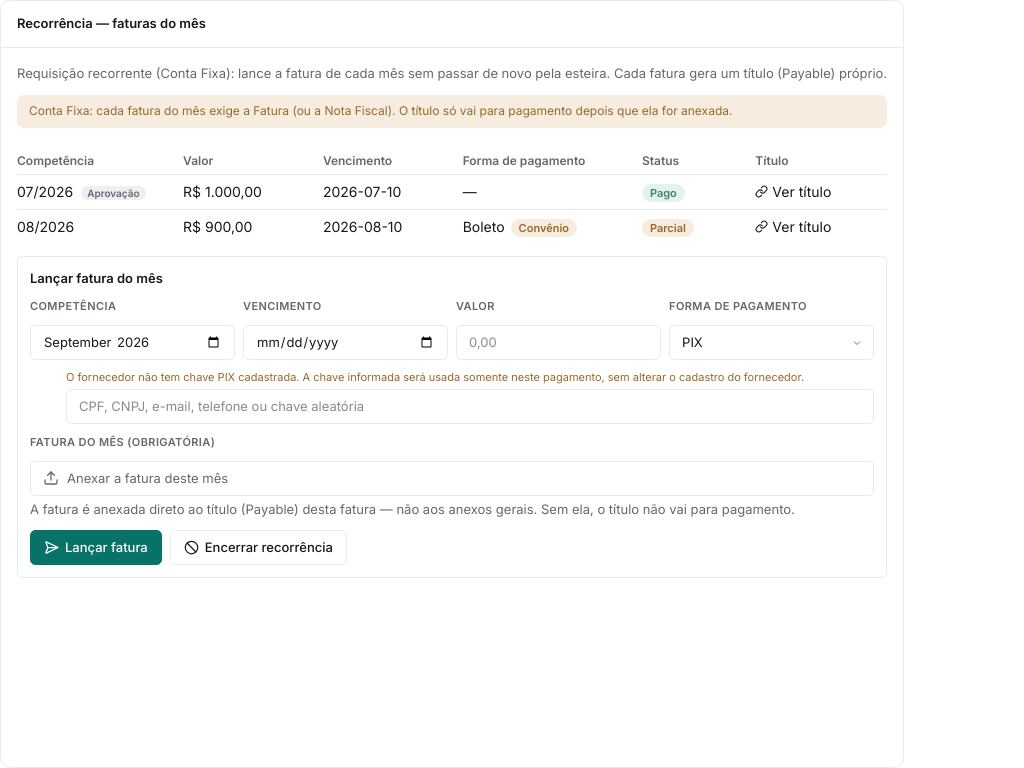
it: RecurrenceCyclesPanel › exige a fatura do mês antes de lançar (Conta Fixa)
The image size is (1024, 768).
Type "2026-09-10" into the date field labelled "Vencimento".
click(346, 343); type("2026-09-10")  # box [243,325,448,360]
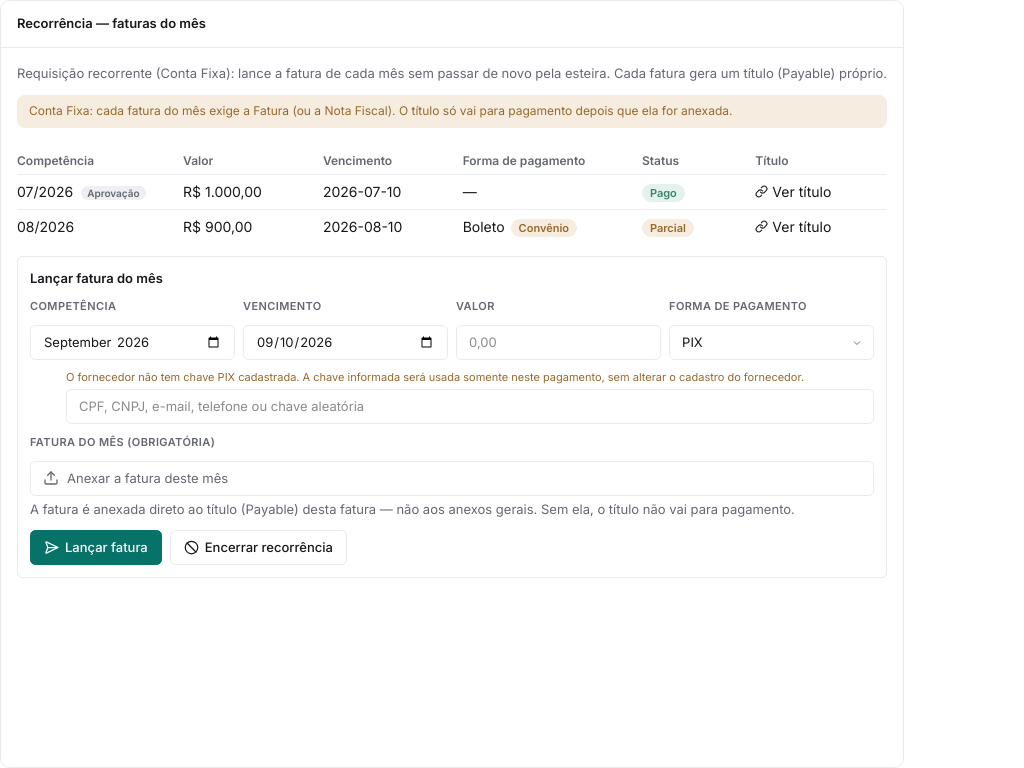
Type "850" into the field labelled "Valor".
click(558, 343); type("850")  # box [456,325,661,360]
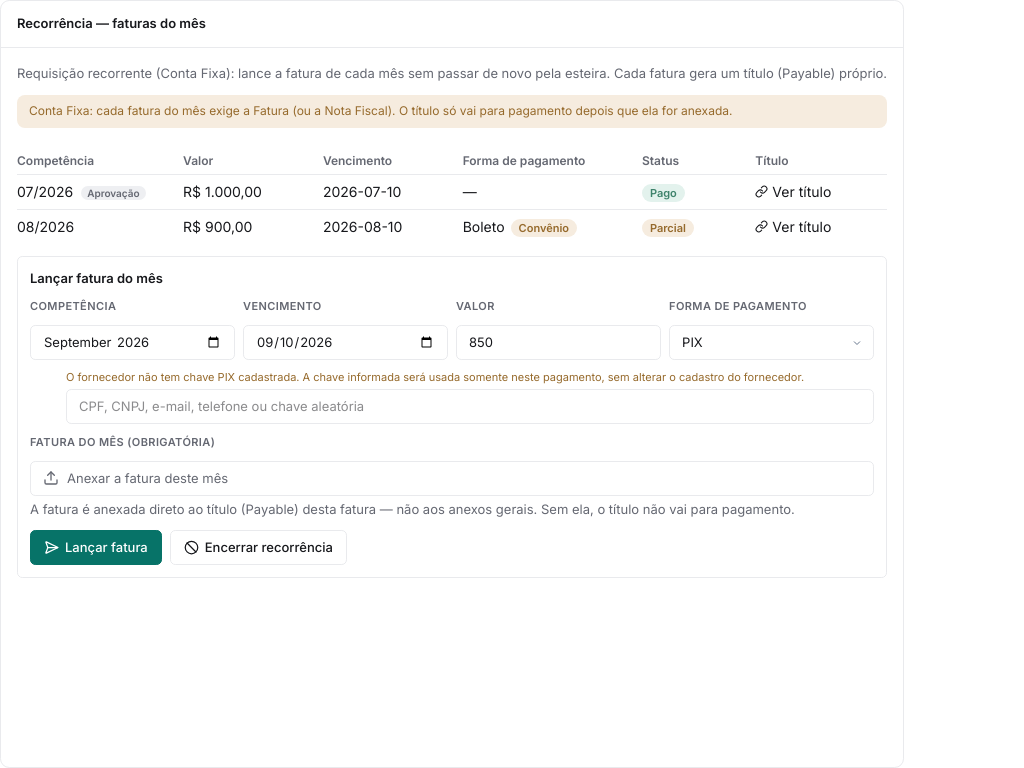
Click the button "Lançar fatura".
click(96, 547)  # box [30,530,162,565]
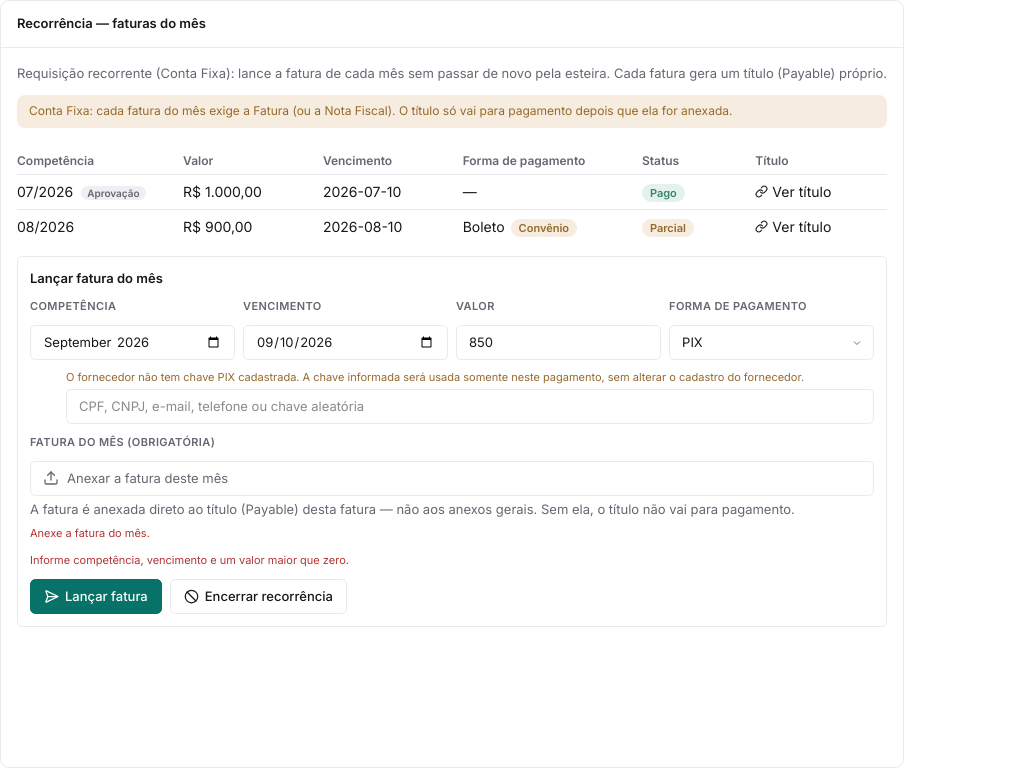
Now the text "Anexe a fatura do mês." is shown, box [30,526,150,540]
